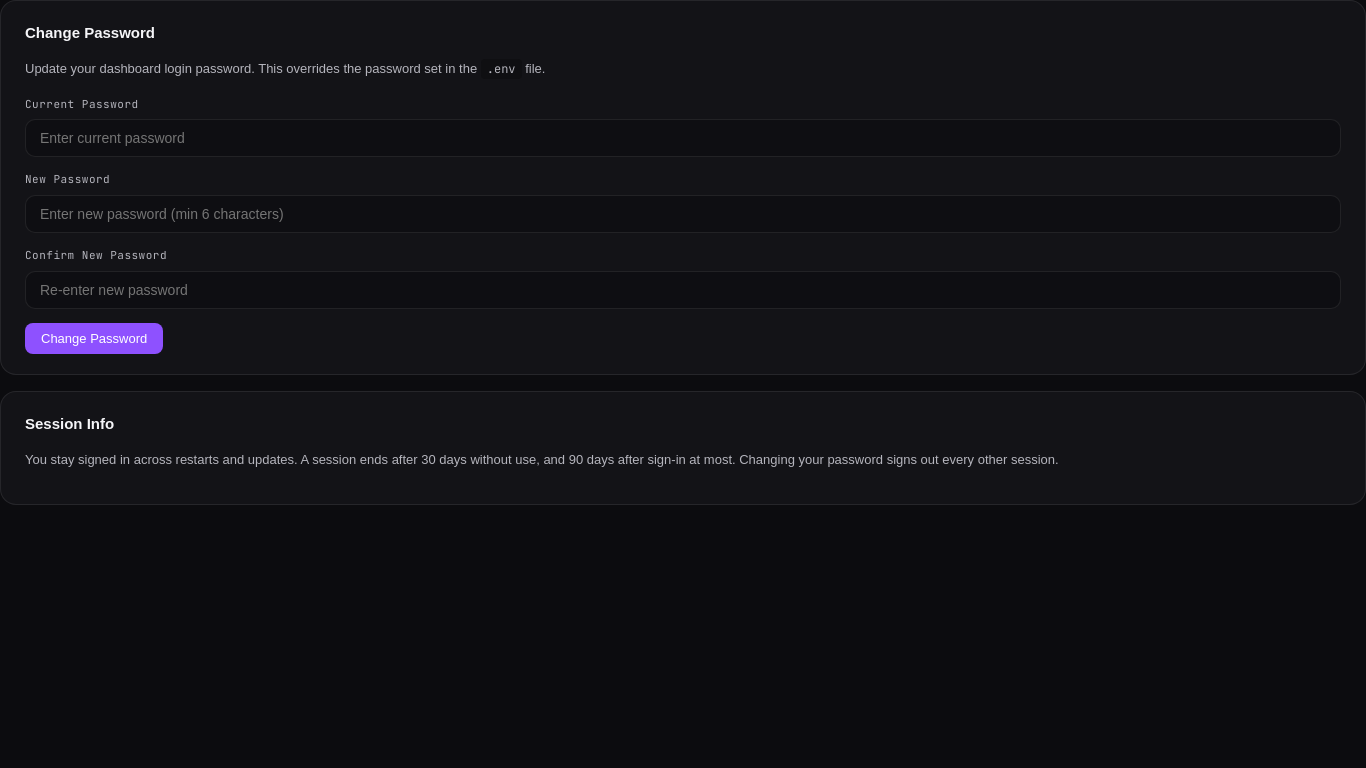
SecurityTab change password › shows the server's error for a 400
Step 1. Type "oldpass1" into the password field labelled "Current Password" → (683, 138), box x1=25 y1=119 x2=1341 y2=157
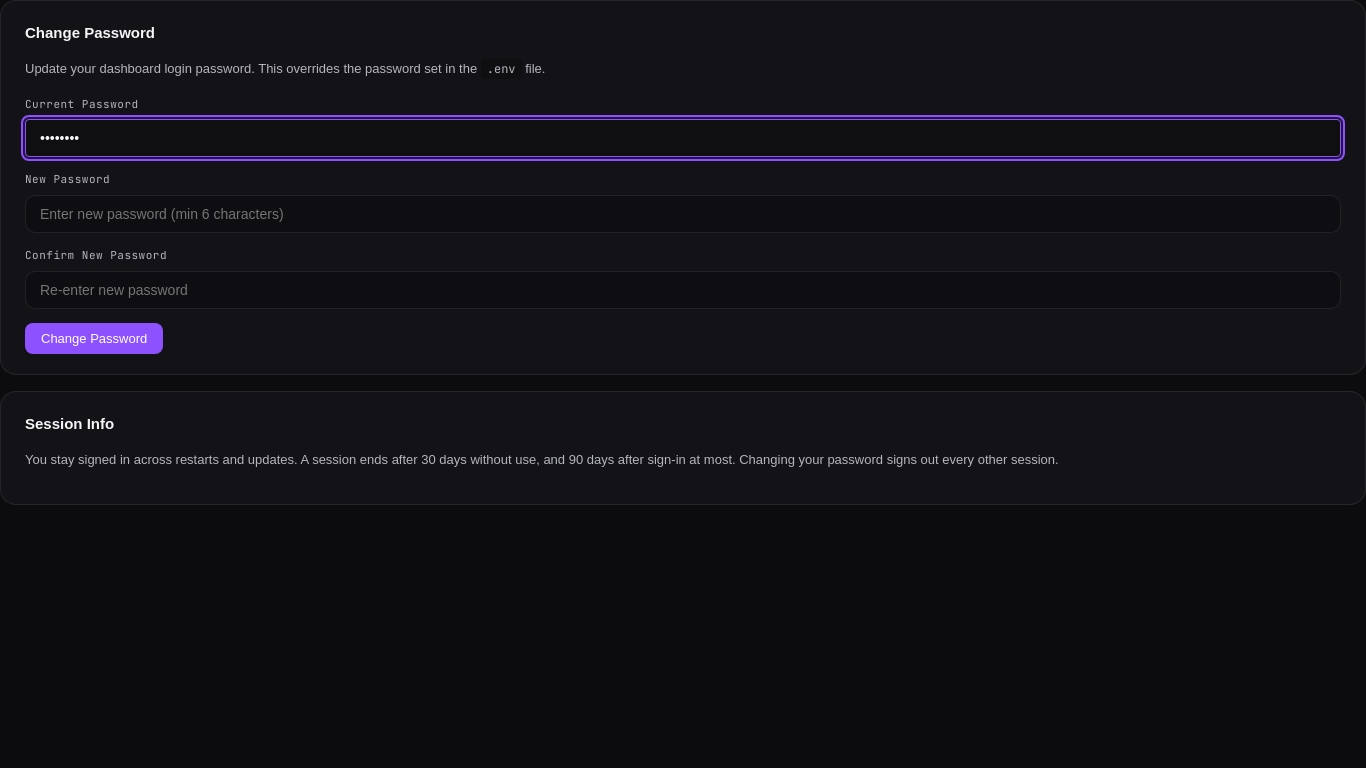
Step 2. Type "newpass12" into the password field labelled "New Password" → (683, 214), box x1=25 y1=195 x2=1341 y2=233
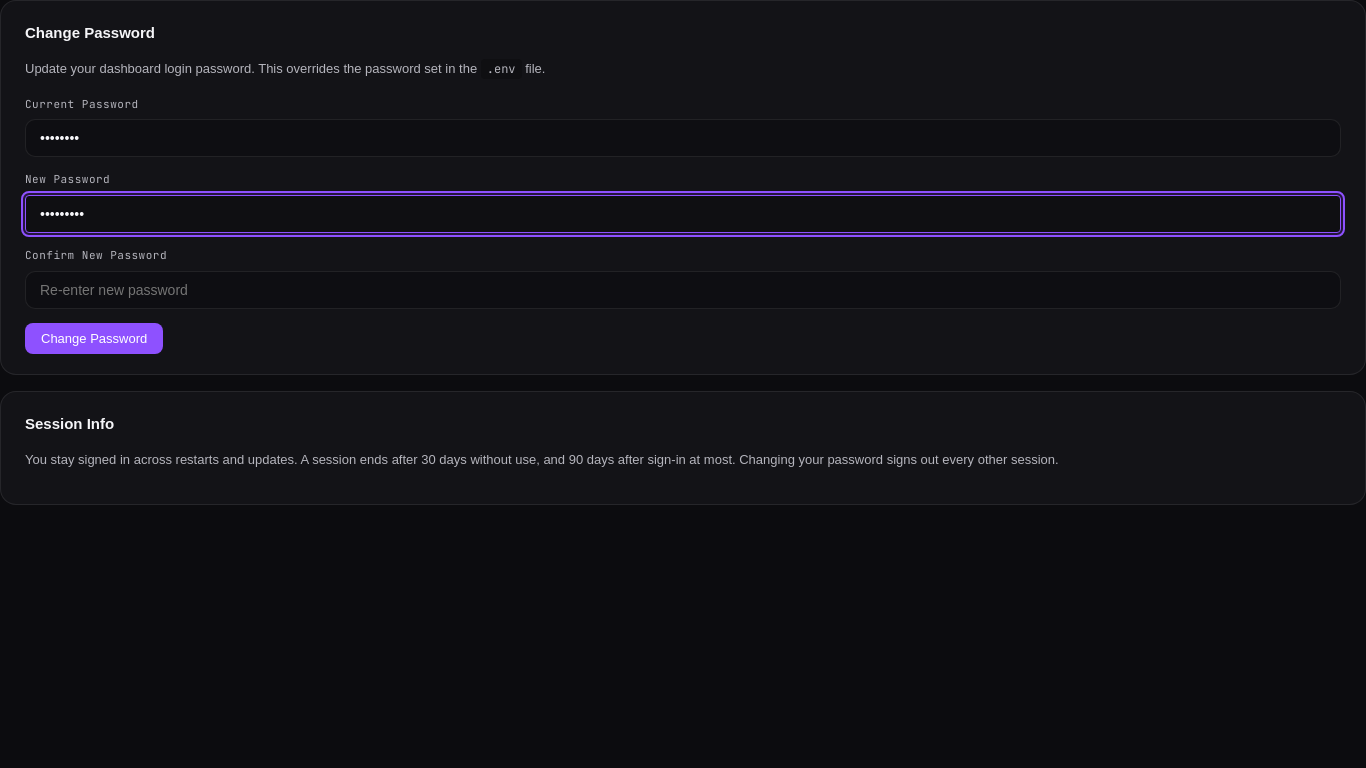
Step 3. Type "newpass12" into the password field labelled "Confirm New Password" → (683, 290), box x1=25 y1=271 x2=1341 y2=309
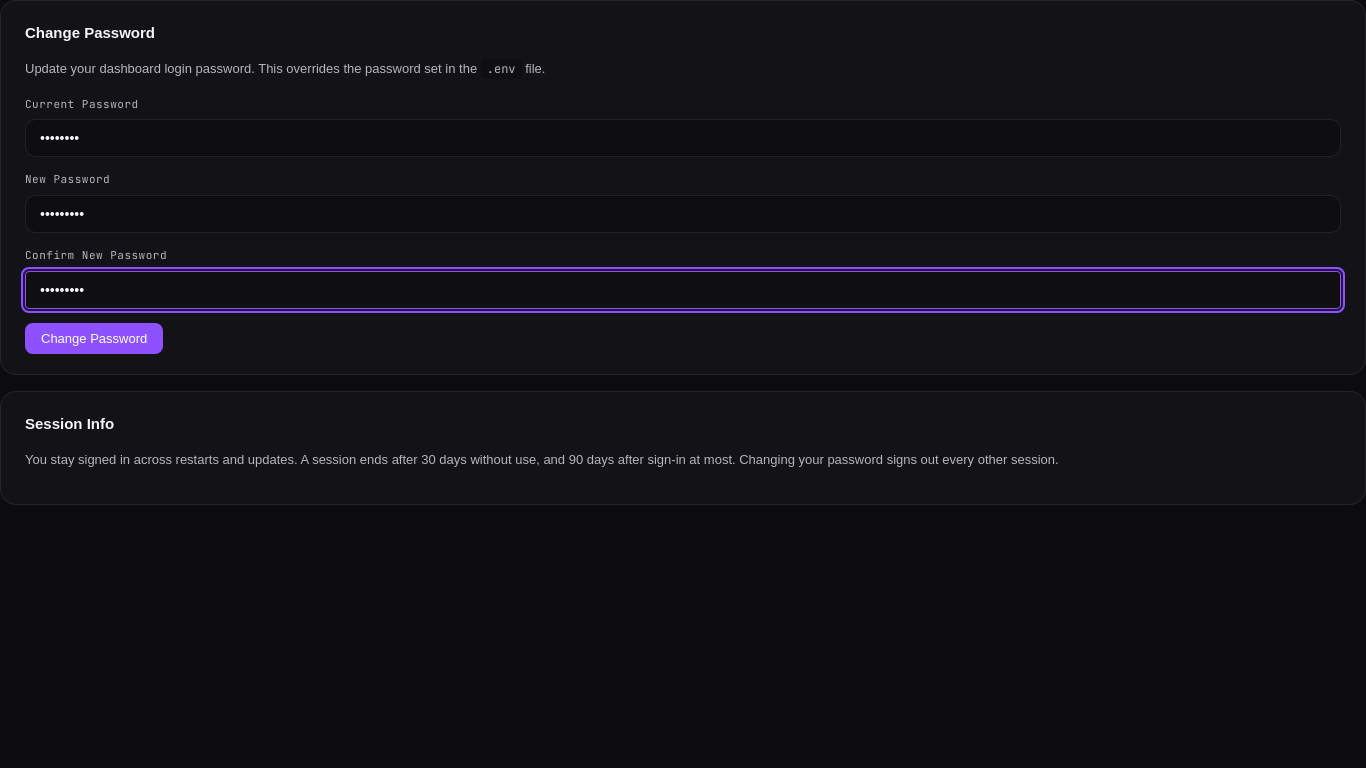
Step 4. Click the button "Change Password" → click(94, 338), box x1=25 y1=323 x2=163 y2=354
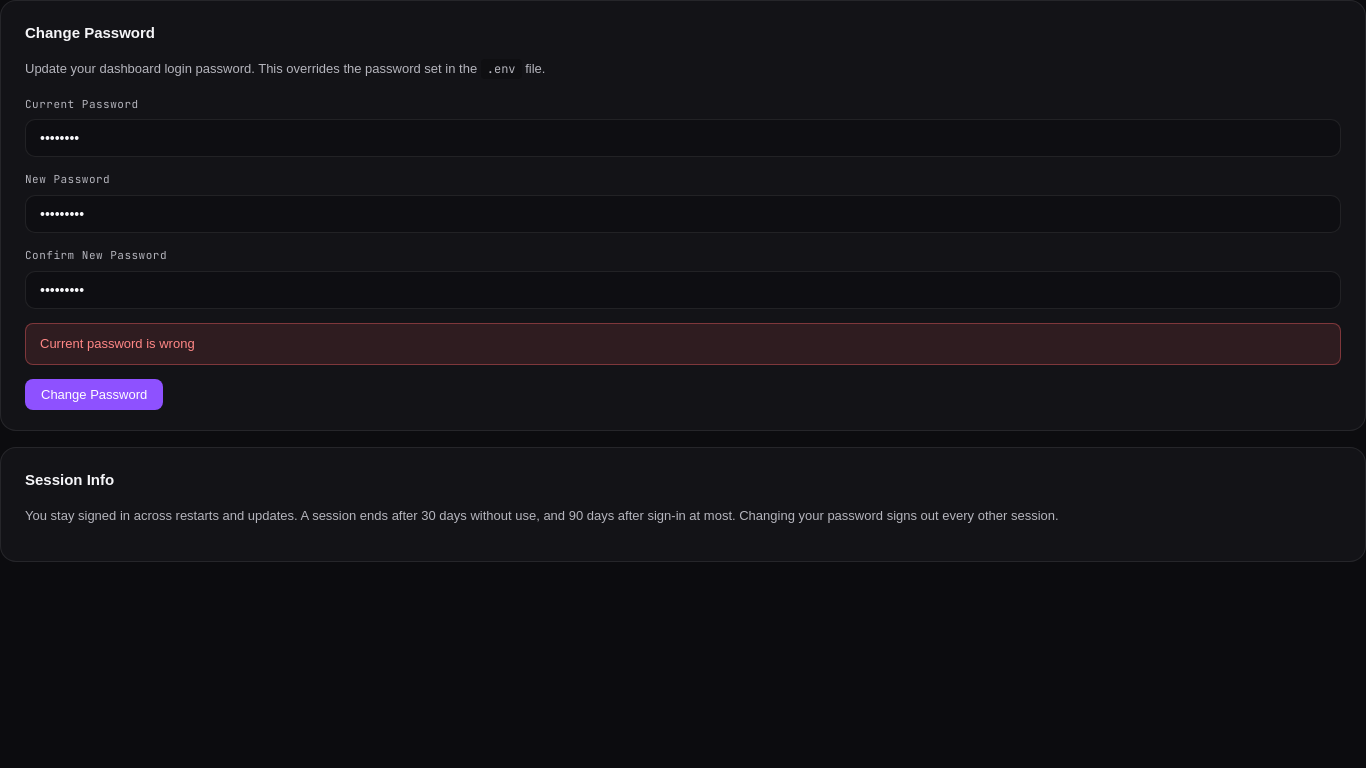
Check: the text "Current password is wrong" is shown, box x1=25 y1=323 x2=1341 y2=365
